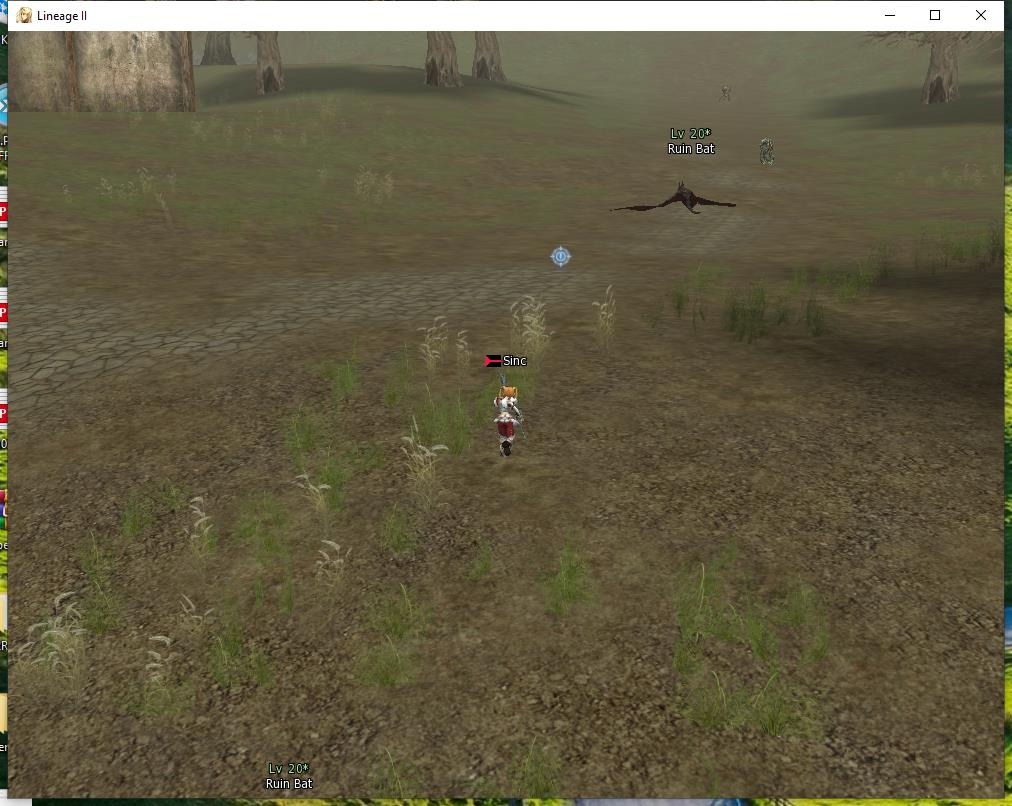monster: (601, 119, 745, 222), (754, 133, 780, 171), (718, 84, 742, 112)
